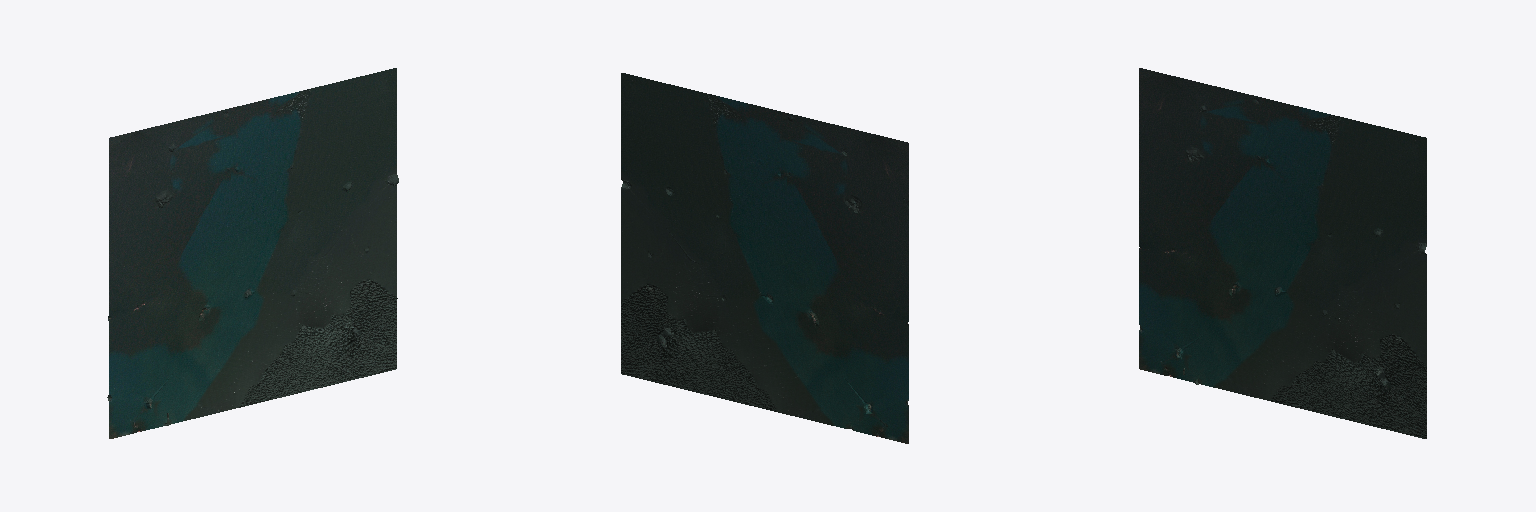
The picture shows the model from 3 angles: view 1: azimuth 30°, elevation 25°; view 2: azimuth 150°, elevation 25°; view 3: azimuth 330°, elevation 25°; orthographic projection.
Bounding box in the file's own units: 252 × 252 × 14.28.
2 materials, 1 textured.